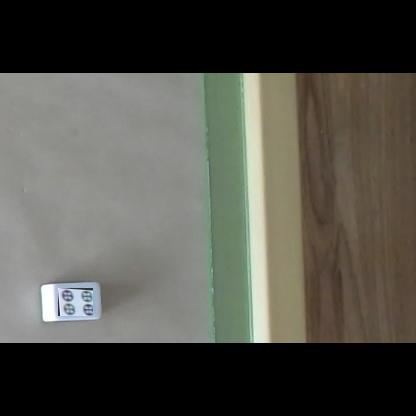4p: (58, 288, 93, 316)
